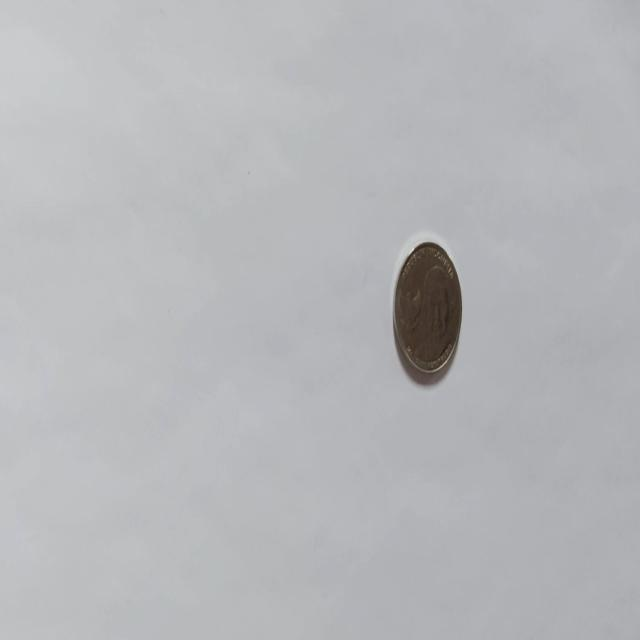seribu rupiah koin: (391, 236, 463, 378)
